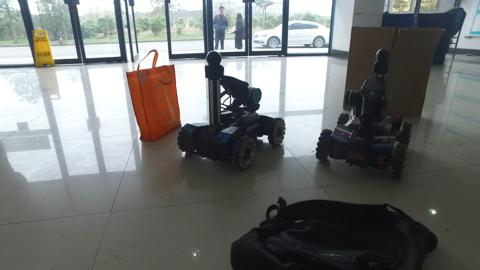bag: (129, 45, 185, 139)
chariot: (316, 47, 417, 180), (183, 52, 288, 170)
